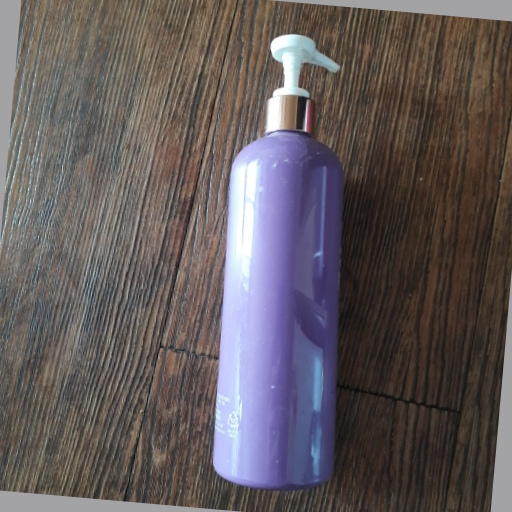Plastic_3: (210, 33, 350, 487)
